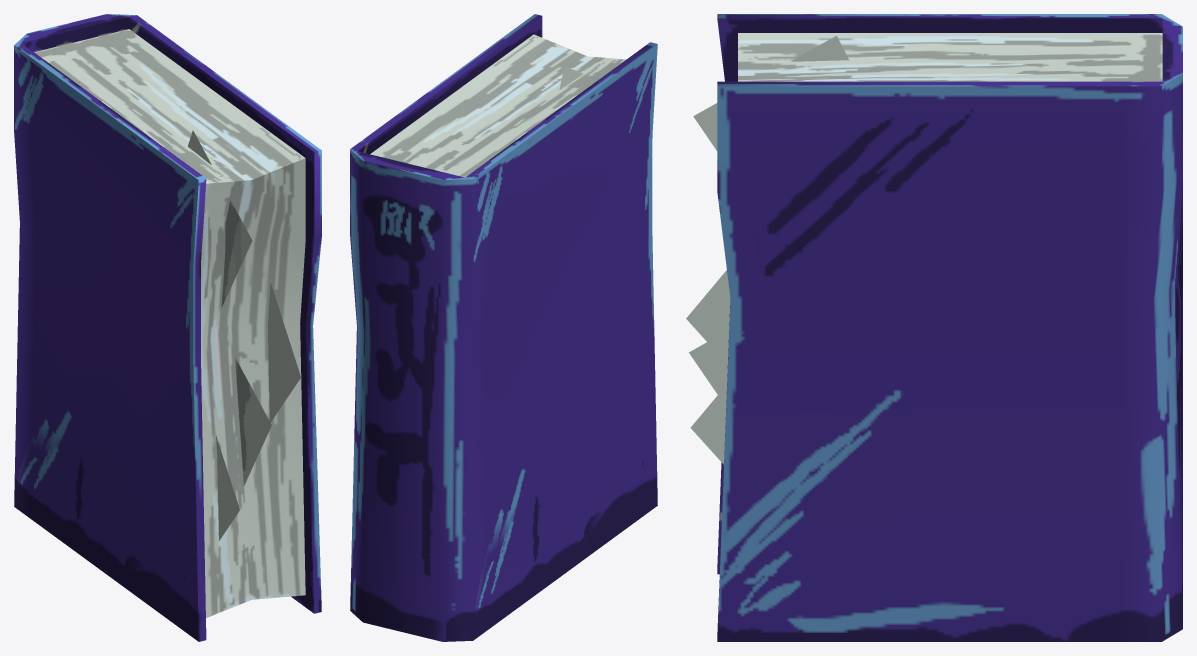
The model's file is Book_1.glb.
3 renders of one model, left to right at view 1: azimuth 30°, elevation 25°; view 2: azimuth 150°, elevation 25°; view 3: azimuth 270°, elevation 25°, orthographic. The views are drawn at different scales.
Visible parts, largest first — view 1: Book_1; view 2: Book_1; view 3: Book_1.
Part boxes in pixels (left/top/right/bottom): Book_1: left=14, top=14, right=321, bottom=641; Book_1: left=350, top=14, right=657, bottom=641; Book_1: left=686, top=14, right=1182, bottom=641.
Bounding box in the file's own units: 0.084 × 0.3035 × 0.2442.
Materials: 1 (1 with a texture image).
